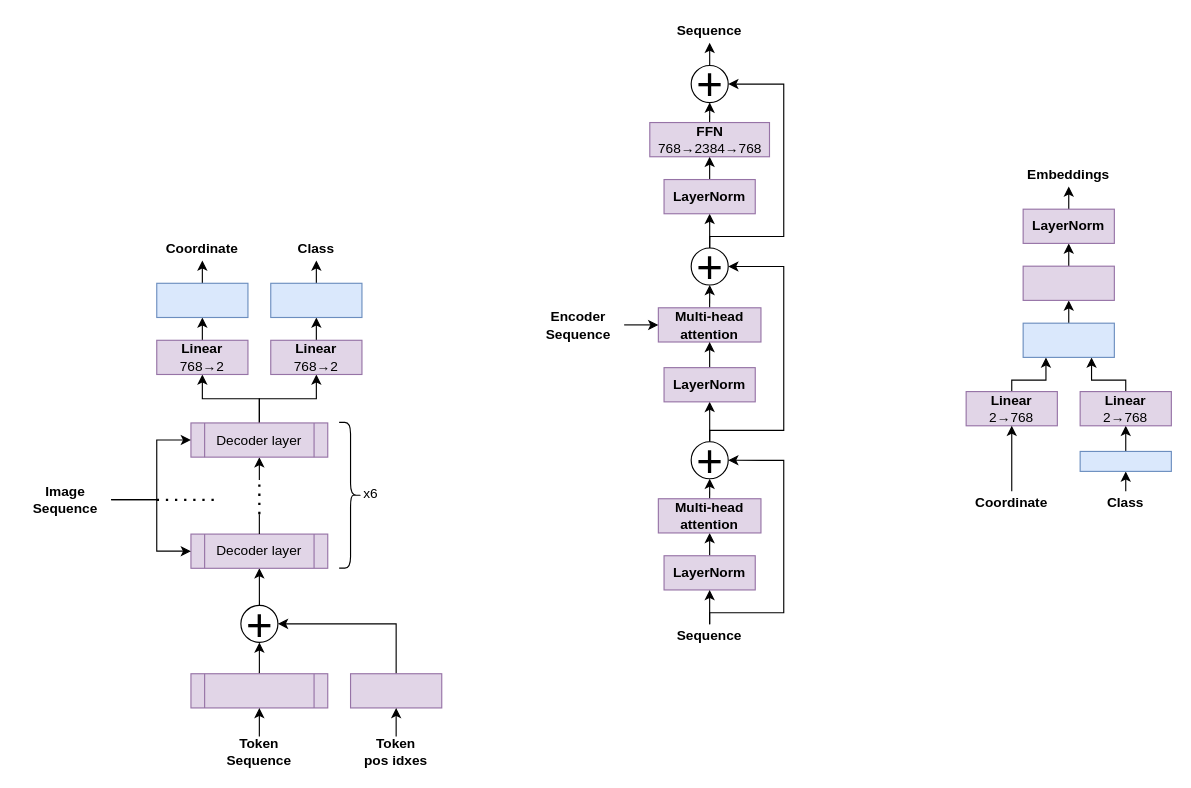
This 1191x788 diagram has some shape labels left out. Here are the shapes that lost their labels. From the top down, the centre of each, then its label:
(202,299): Sigmoid
(316,299): Softmax
(1068,282): Linear 1536→768
(1068,339): Concat dim=-1
(1125,460): To one-hot
(259,690): TokenEmbedding
(395,690): Linear 64→768
